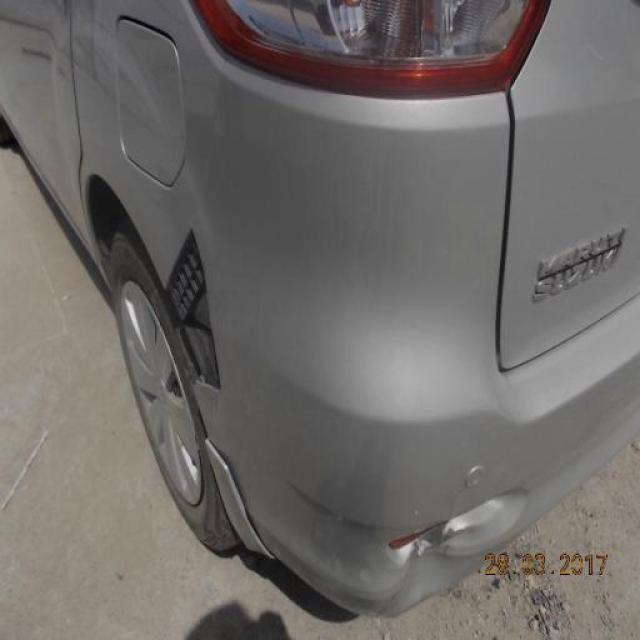car damage: (165, 228, 223, 392), (380, 517, 465, 617)
